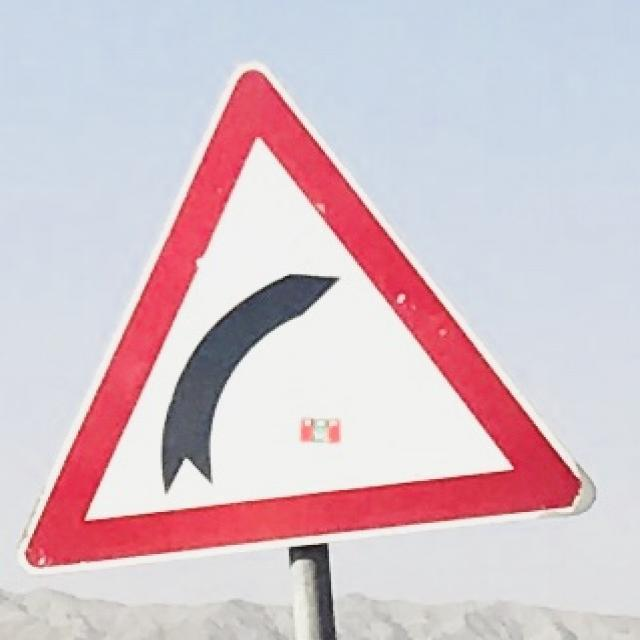right hand curve: (21, 59, 606, 574)
